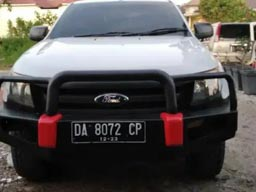plat: (71, 122, 144, 136)
